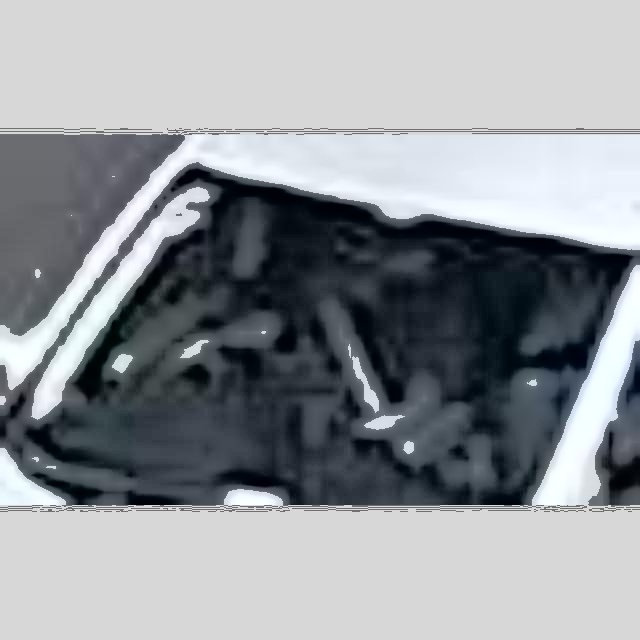pakai: (202, 219, 488, 463)
